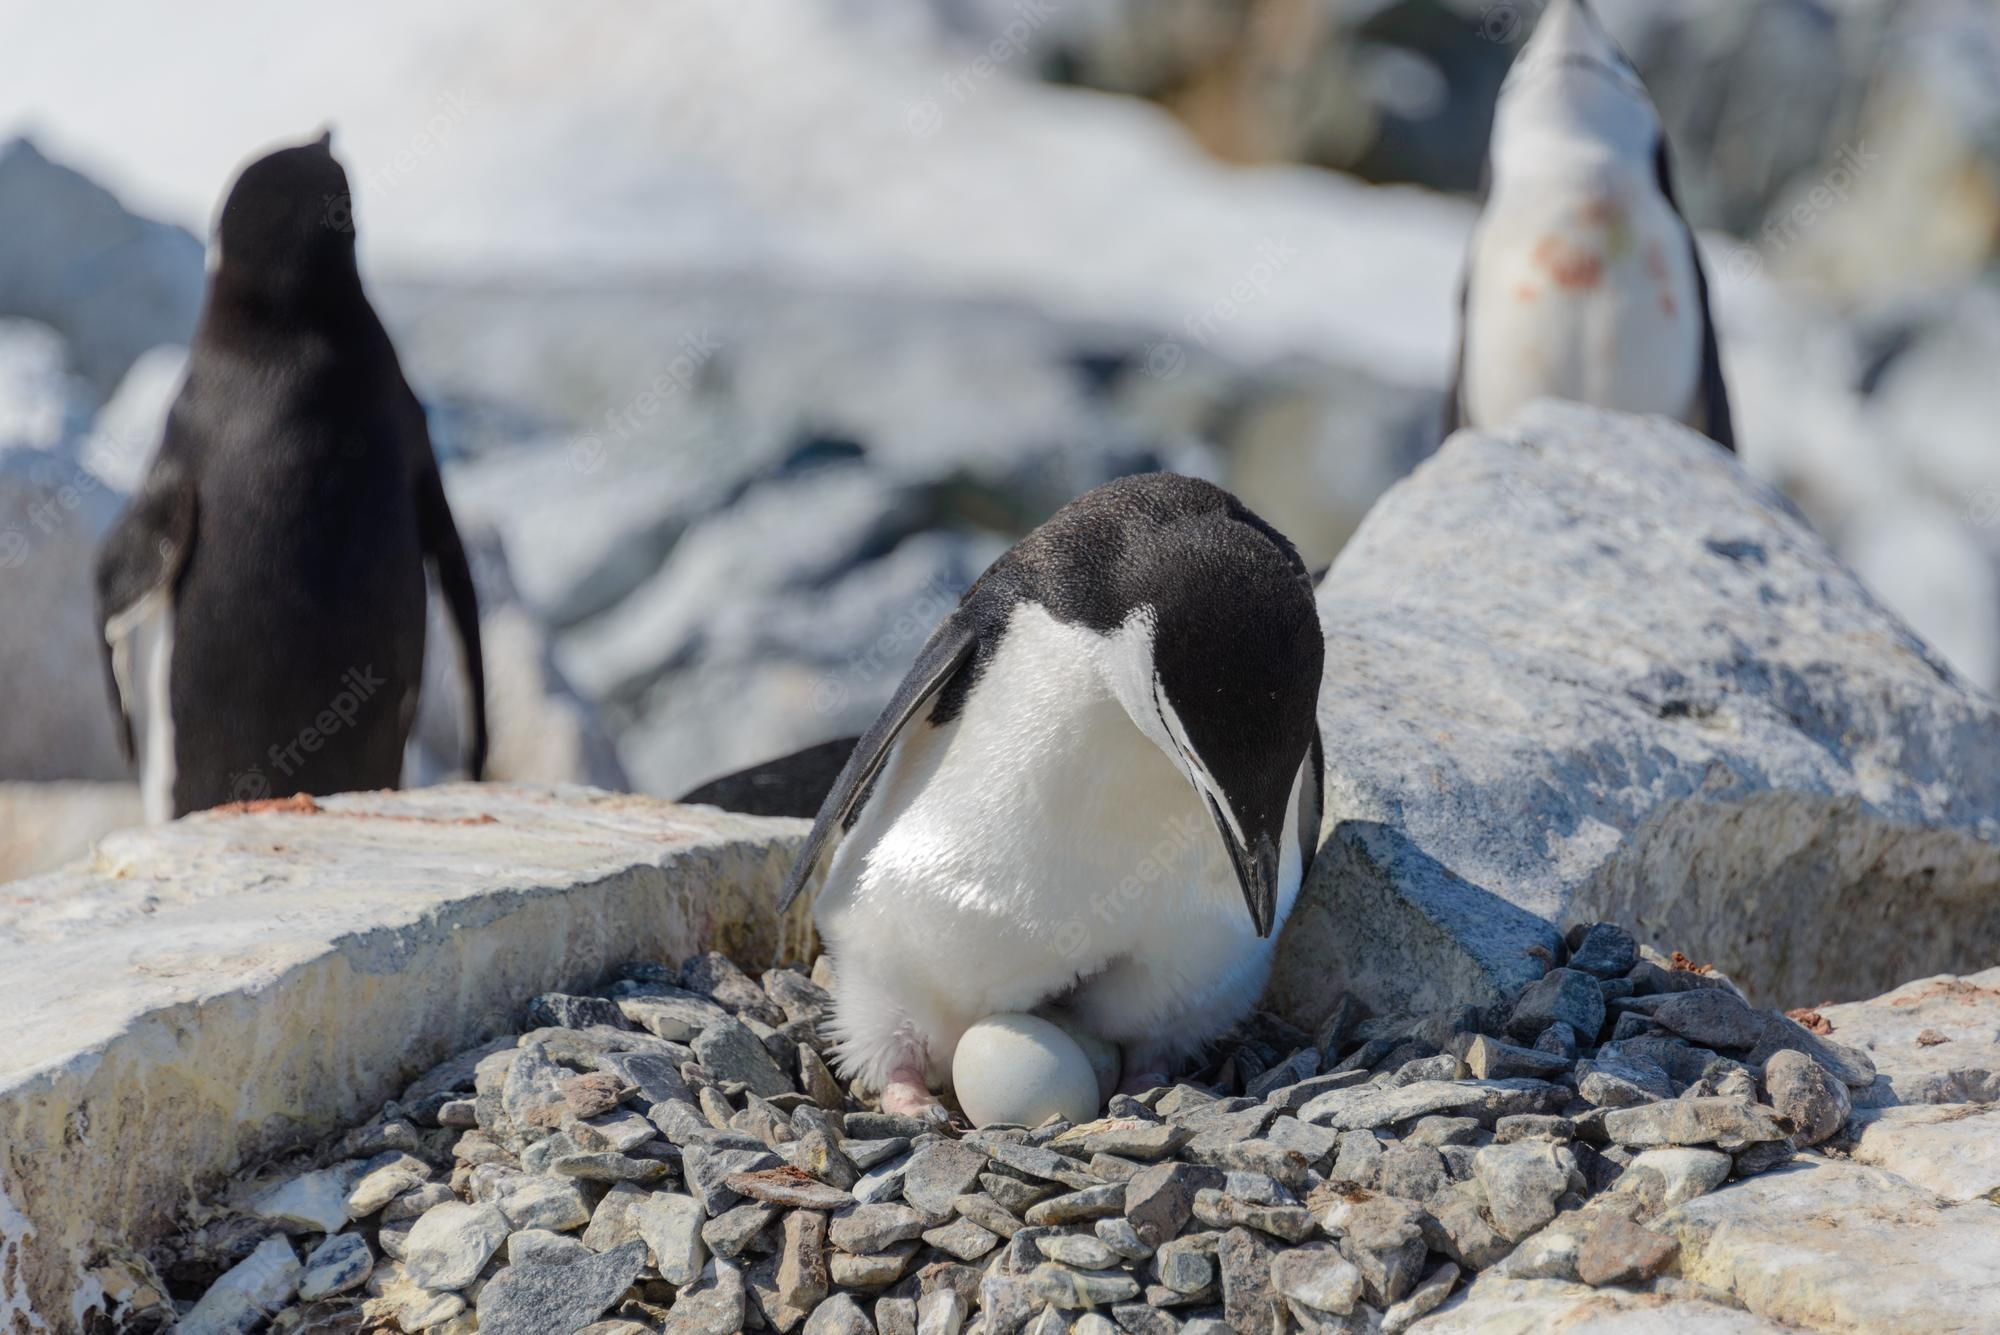chinstrap: (691, 407, 1380, 1241)
